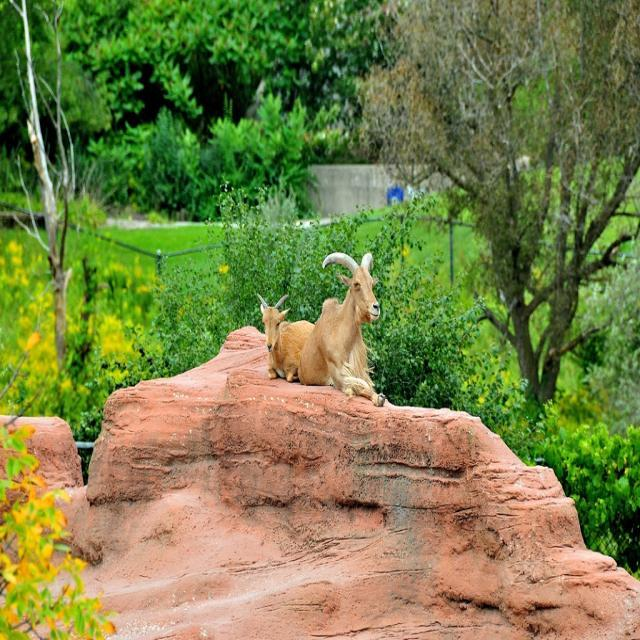Goat: (296, 251, 386, 407), (256, 291, 315, 382)
